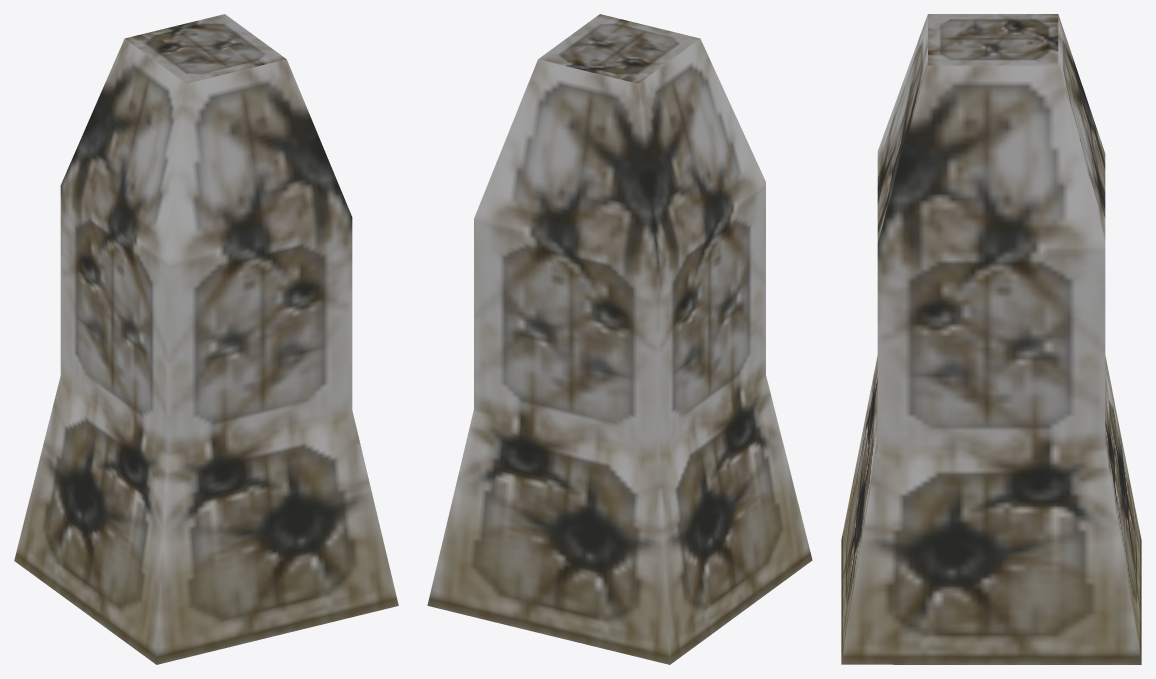
Rendered from l_mediumpost_dam.glb.
3 views of the same model, side by side, from view 1: azimuth 30°, elevation 25°; view 2: azimuth 150°, elevation 25°; view 3: azimuth 270°, elevation 25° (orthographic). The views are drawn at different scales.
Parts seen in each view (by area): view 1: L_MediumWallDAM; view 2: L_MediumWallDAM; view 3: L_MediumWallDAM.
Part boxes in pixels (left/top/right/bottom): L_MediumWallDAM: left=14, top=14, right=398, bottom=664; L_MediumWallDAM: left=427, top=14, right=812, bottom=664; L_MediumWallDAM: left=841, top=14, right=1141, bottom=664.
Bounding box in the file's own units: 5.49 × 11.57 × 5.59.
Materials: 1 (1 with a texture image).
